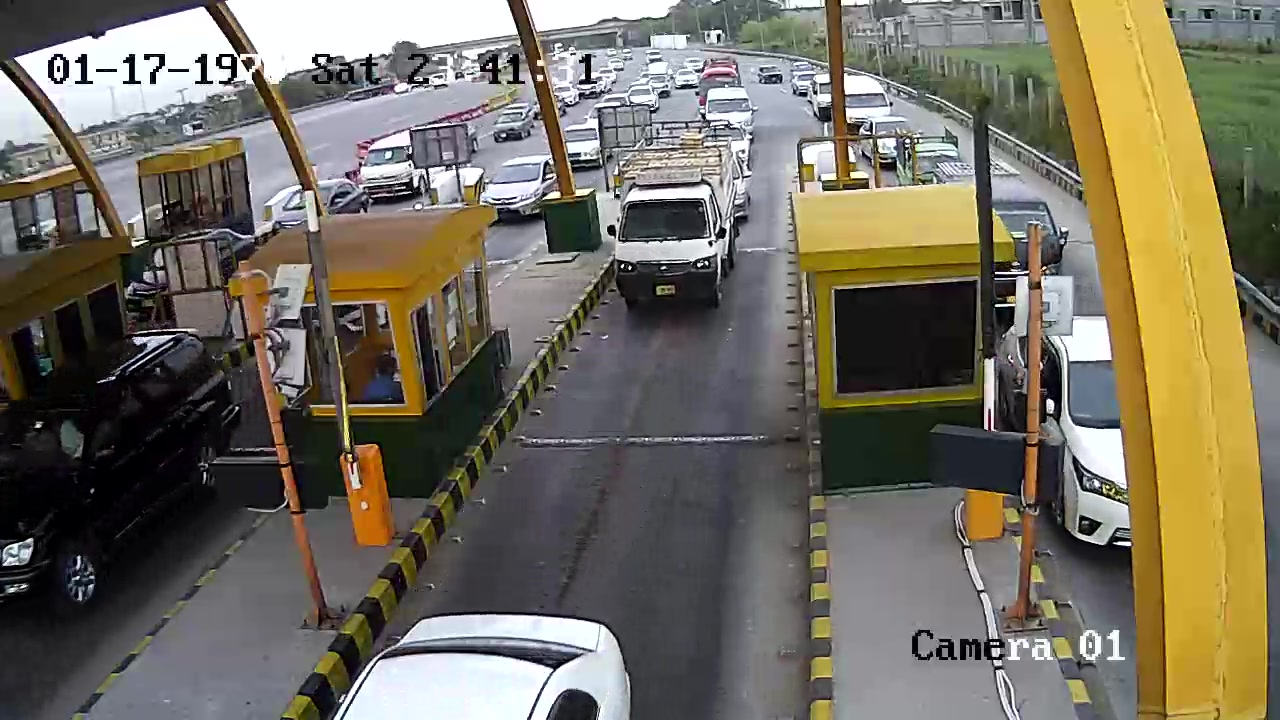F2: (607, 118, 737, 320)
